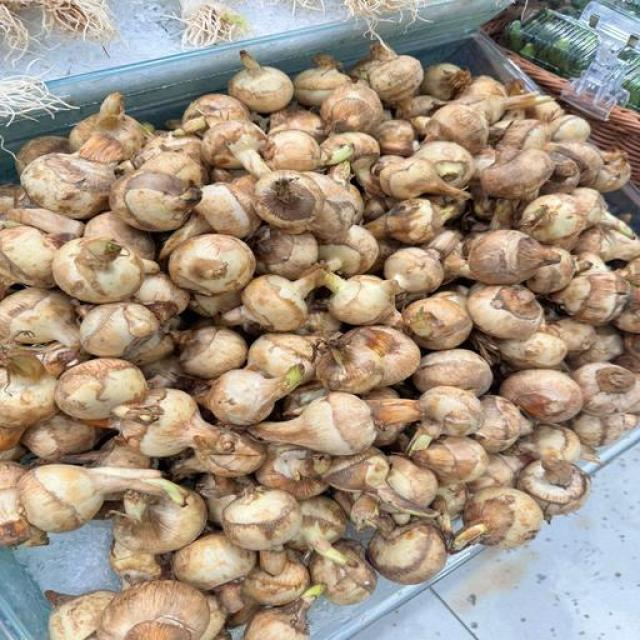organic: (0, 0, 640, 640), (504, 9, 598, 77), (505, 9, 598, 77), (145, 479, 187, 506), (623, 50, 639, 109), (599, 212, 634, 238), (542, 13, 568, 43), (548, 39, 571, 72), (314, 544, 348, 566), (325, 143, 353, 166), (507, 20, 526, 51), (523, 12, 544, 39), (284, 364, 304, 389), (623, 78, 639, 109), (609, 0, 639, 16), (224, 12, 249, 31), (544, 22, 566, 43), (323, 272, 344, 293), (300, 584, 326, 599), (538, 43, 552, 67), (618, 47, 637, 64), (554, 39, 571, 57), (627, 54, 639, 77), (627, 89, 639, 111), (519, 43, 536, 58), (628, 90, 639, 109), (140, 122, 156, 134), (563, 8, 581, 18), (624, 75, 639, 87), (624, 78, 639, 89), (572, 0, 589, 9), (548, 0, 563, 9)
